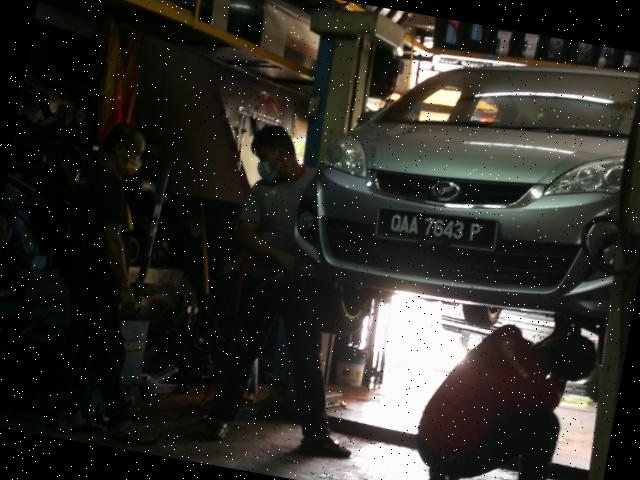License_Plate: (376, 202, 499, 257)
car: (267, 14, 640, 334)
